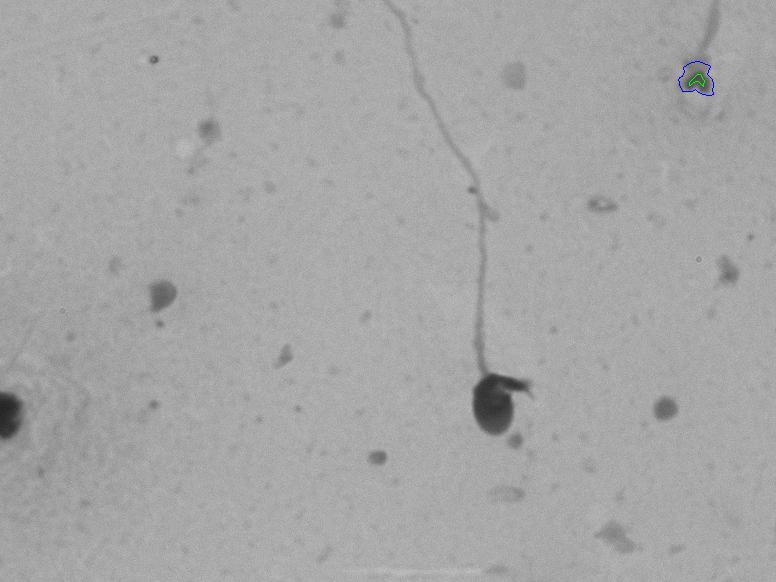Abnormal: (411, 61, 552, 458)
